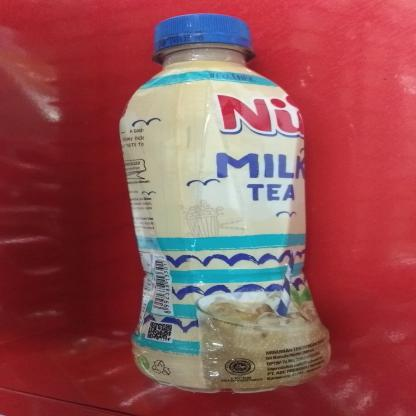plastic: (108, 8, 338, 398)
